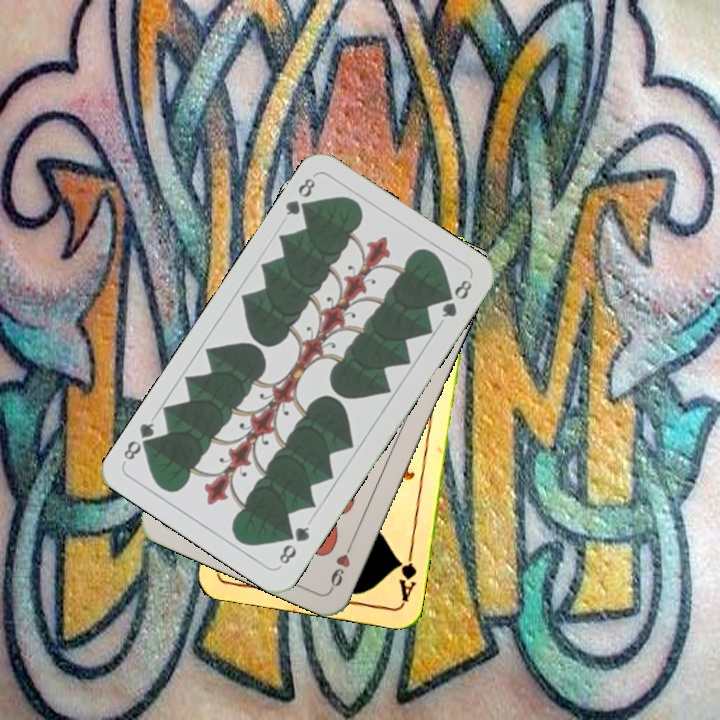G8: (275, 522, 313, 568), (281, 174, 318, 220)
GA: (393, 545, 419, 605)
H9: (326, 536, 357, 592)
